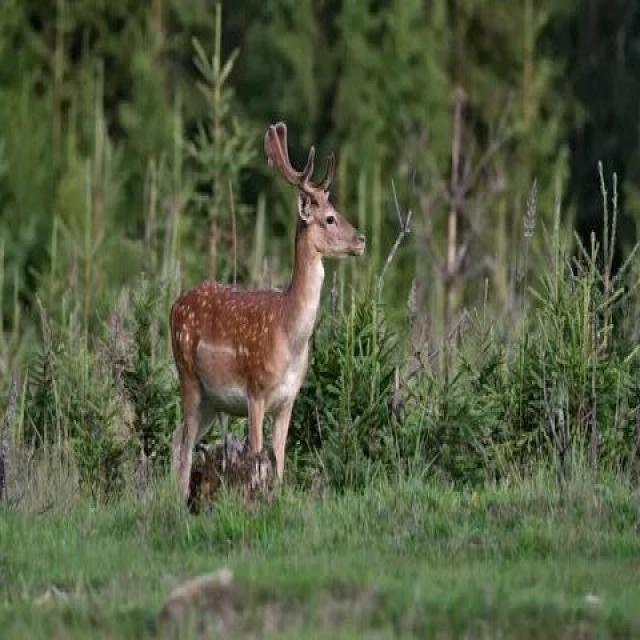deer: (172, 106, 370, 509)
